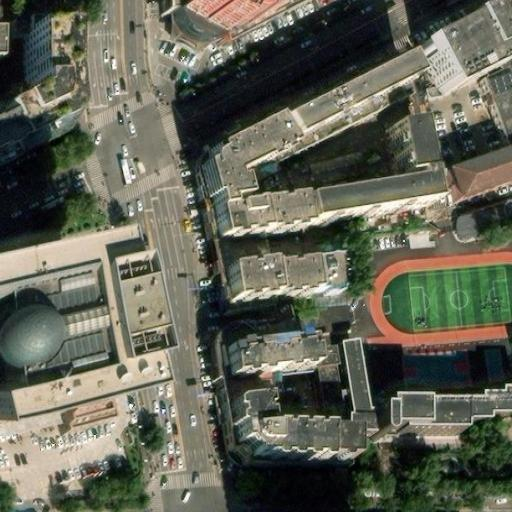building: (338, 336, 512, 449), (200, 125, 302, 251), (0, 14, 76, 152), (283, 74, 411, 155), (224, 415, 347, 482), (298, 182, 432, 237), (421, 11, 512, 84), (0, 363, 53, 469), (443, 143, 512, 207), (225, 350, 315, 399), (170, 0, 270, 44), (267, 261, 315, 305), (225, 270, 273, 313), (392, 130, 426, 186), (309, 252, 339, 290), (481, 0, 512, 31), (405, 227, 439, 251), (495, 100, 512, 145), (0, 18, 12, 53), (310, 349, 333, 367)
